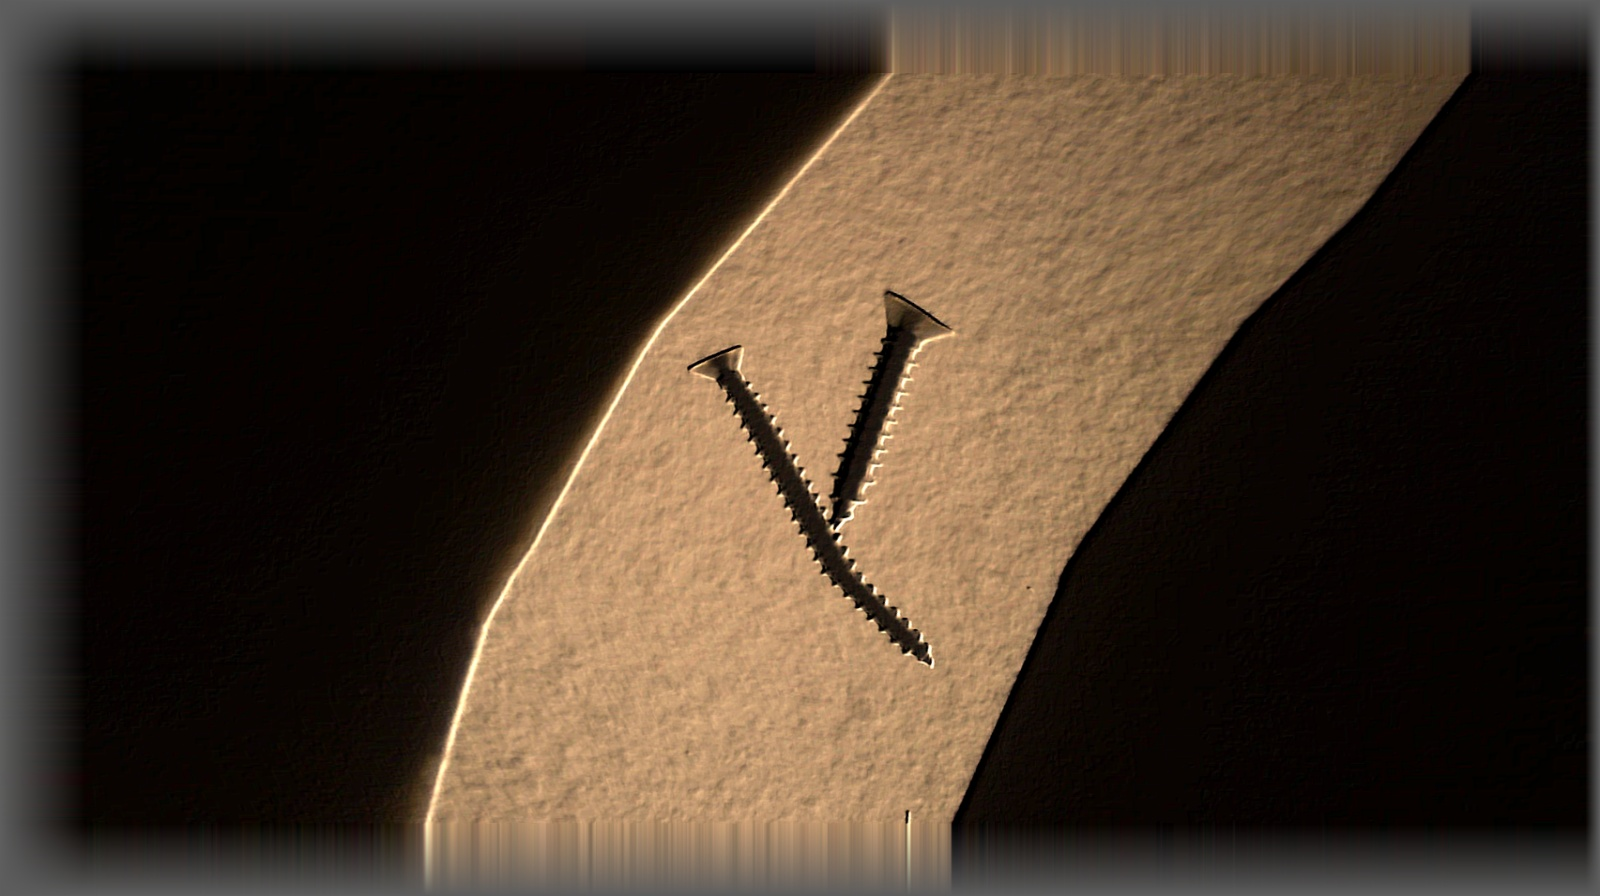S001: (824, 272, 980, 524)
S002: (689, 338, 944, 679)
